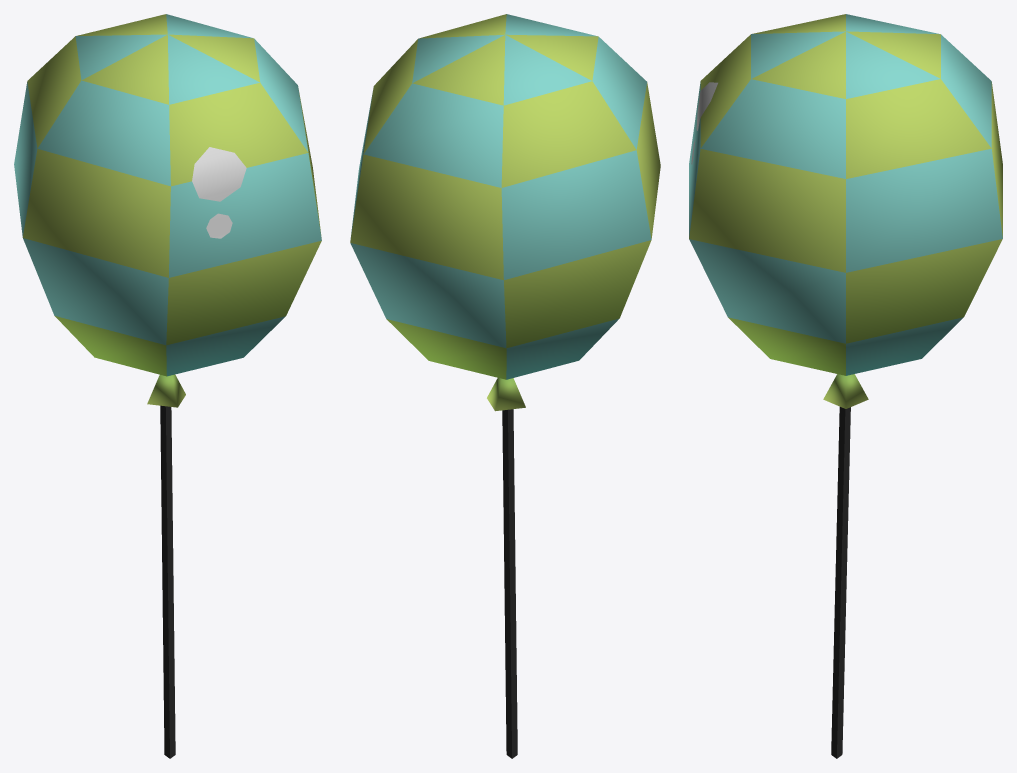
File: greenPokadotsBaloon.glb
The picture shows the model from 3 angles, left to right: view 1: azimuth 30°, elevation 25°; view 2: azimuth 150°, elevation 25°; view 3: azimuth 270°, elevation 25°; orthographic projection.
Parts seen in each view (by area): view 1: greenPokadotsBaloon; view 2: greenPokadotsBaloon; view 3: greenPokadotsBaloon.
Boxes of the visible parts, box(x1,y1,x2,y2) form: greenPokadotsBaloon: box(14, 14, 321, 758); greenPokadotsBaloon: box(350, 14, 660, 758); greenPokadotsBaloon: box(689, 14, 1002, 758).
Bounding box in the file's own units: 0.5473 × 1.29 × 0.5071.
